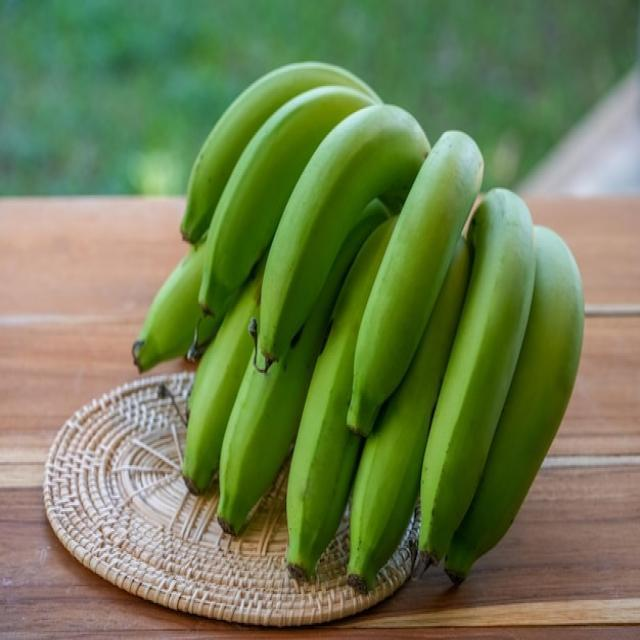Banana: (128, 49, 590, 601)
